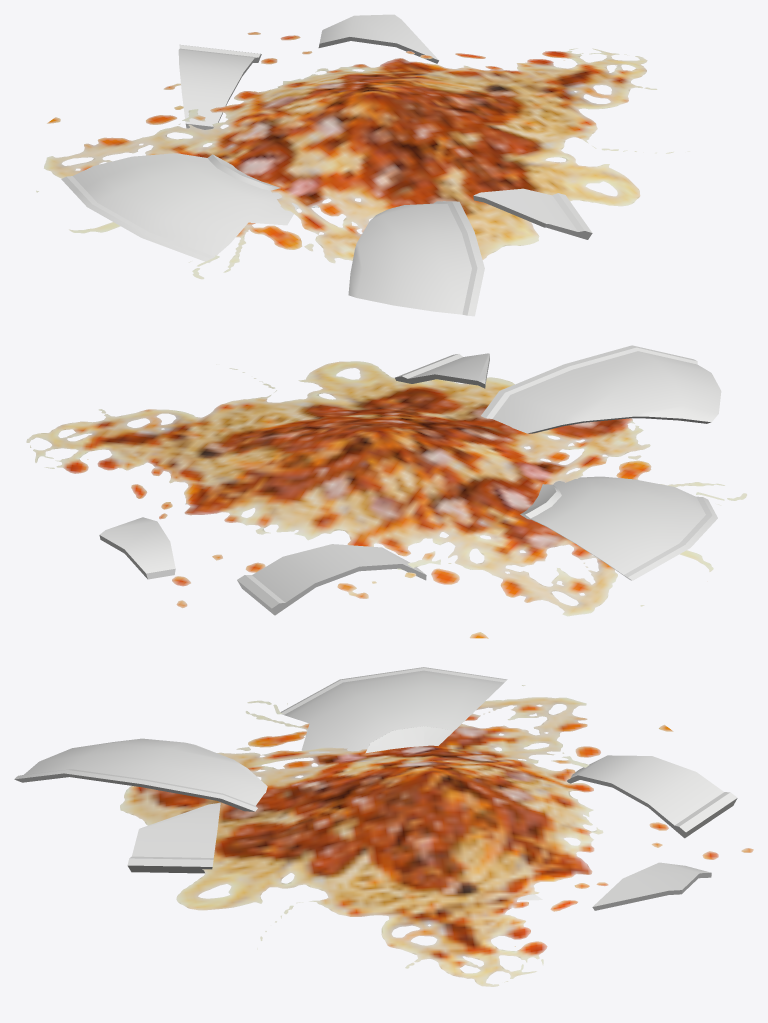
Rendered from Noddels_V1.fbx.
3 renders of one model, top to bottom at view 1: azimuth 30°, elevation 25°; view 2: azimuth 150°, elevation 25°; view 3: azimuth 270°, elevation 25°, orthographic. The views are drawn at different scales.
Visible parts, largest first — view 1: Noddels_V1; view 2: Noddels_V1; view 3: Noddels_V1.
Boxes of the visible parts, box(x1,y1,x2,y2) form: Noddels_V1: box(36, 14, 689, 316); Noddels_V1: box(26, 345, 746, 638); Noddels_V1: box(14, 667, 753, 986).
Bounding box in the file's own units: 32.76 × 2.98 × 30.47.
